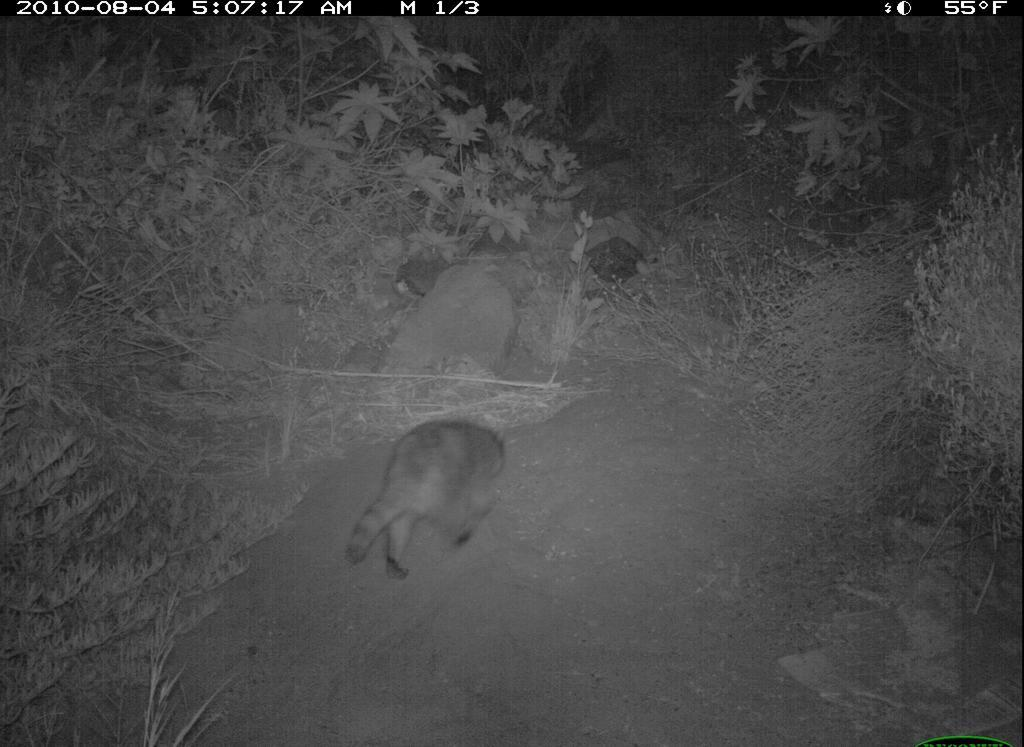raccoon: (344, 410, 520, 594)
